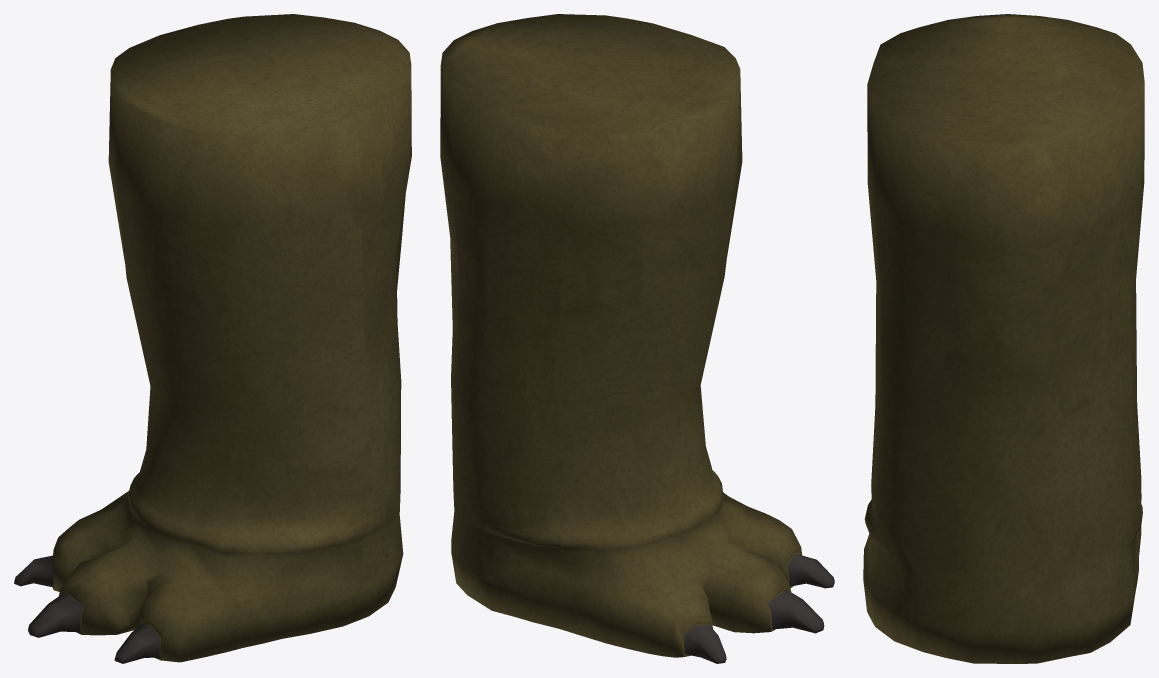
Rendered from 3DObj_Dinosaur.fbx.
3 views of the same model, side by side, from view 1: azimuth 30°, elevation 25°; view 2: azimuth 150°, elevation 25°; view 3: azimuth 270°, elevation 25° (orthographic). The views are drawn at different scales.
Parts seen in each view (by area): view 1: 3DObj_Dinosaur; view 2: 3DObj_Dinosaur; view 3: 3DObj_Dinosaur.
Part boxes in pixels (x1,y1,x2,y2): 3DObj_Dinosaur: (14, 14, 411, 663); 3DObj_Dinosaur: (440, 14, 834, 663); 3DObj_Dinosaur: (863, 14, 1144, 663).
Size of the model in its own units: 290 by 381 by 185.
Materials: 1 (1 with a texture image).
